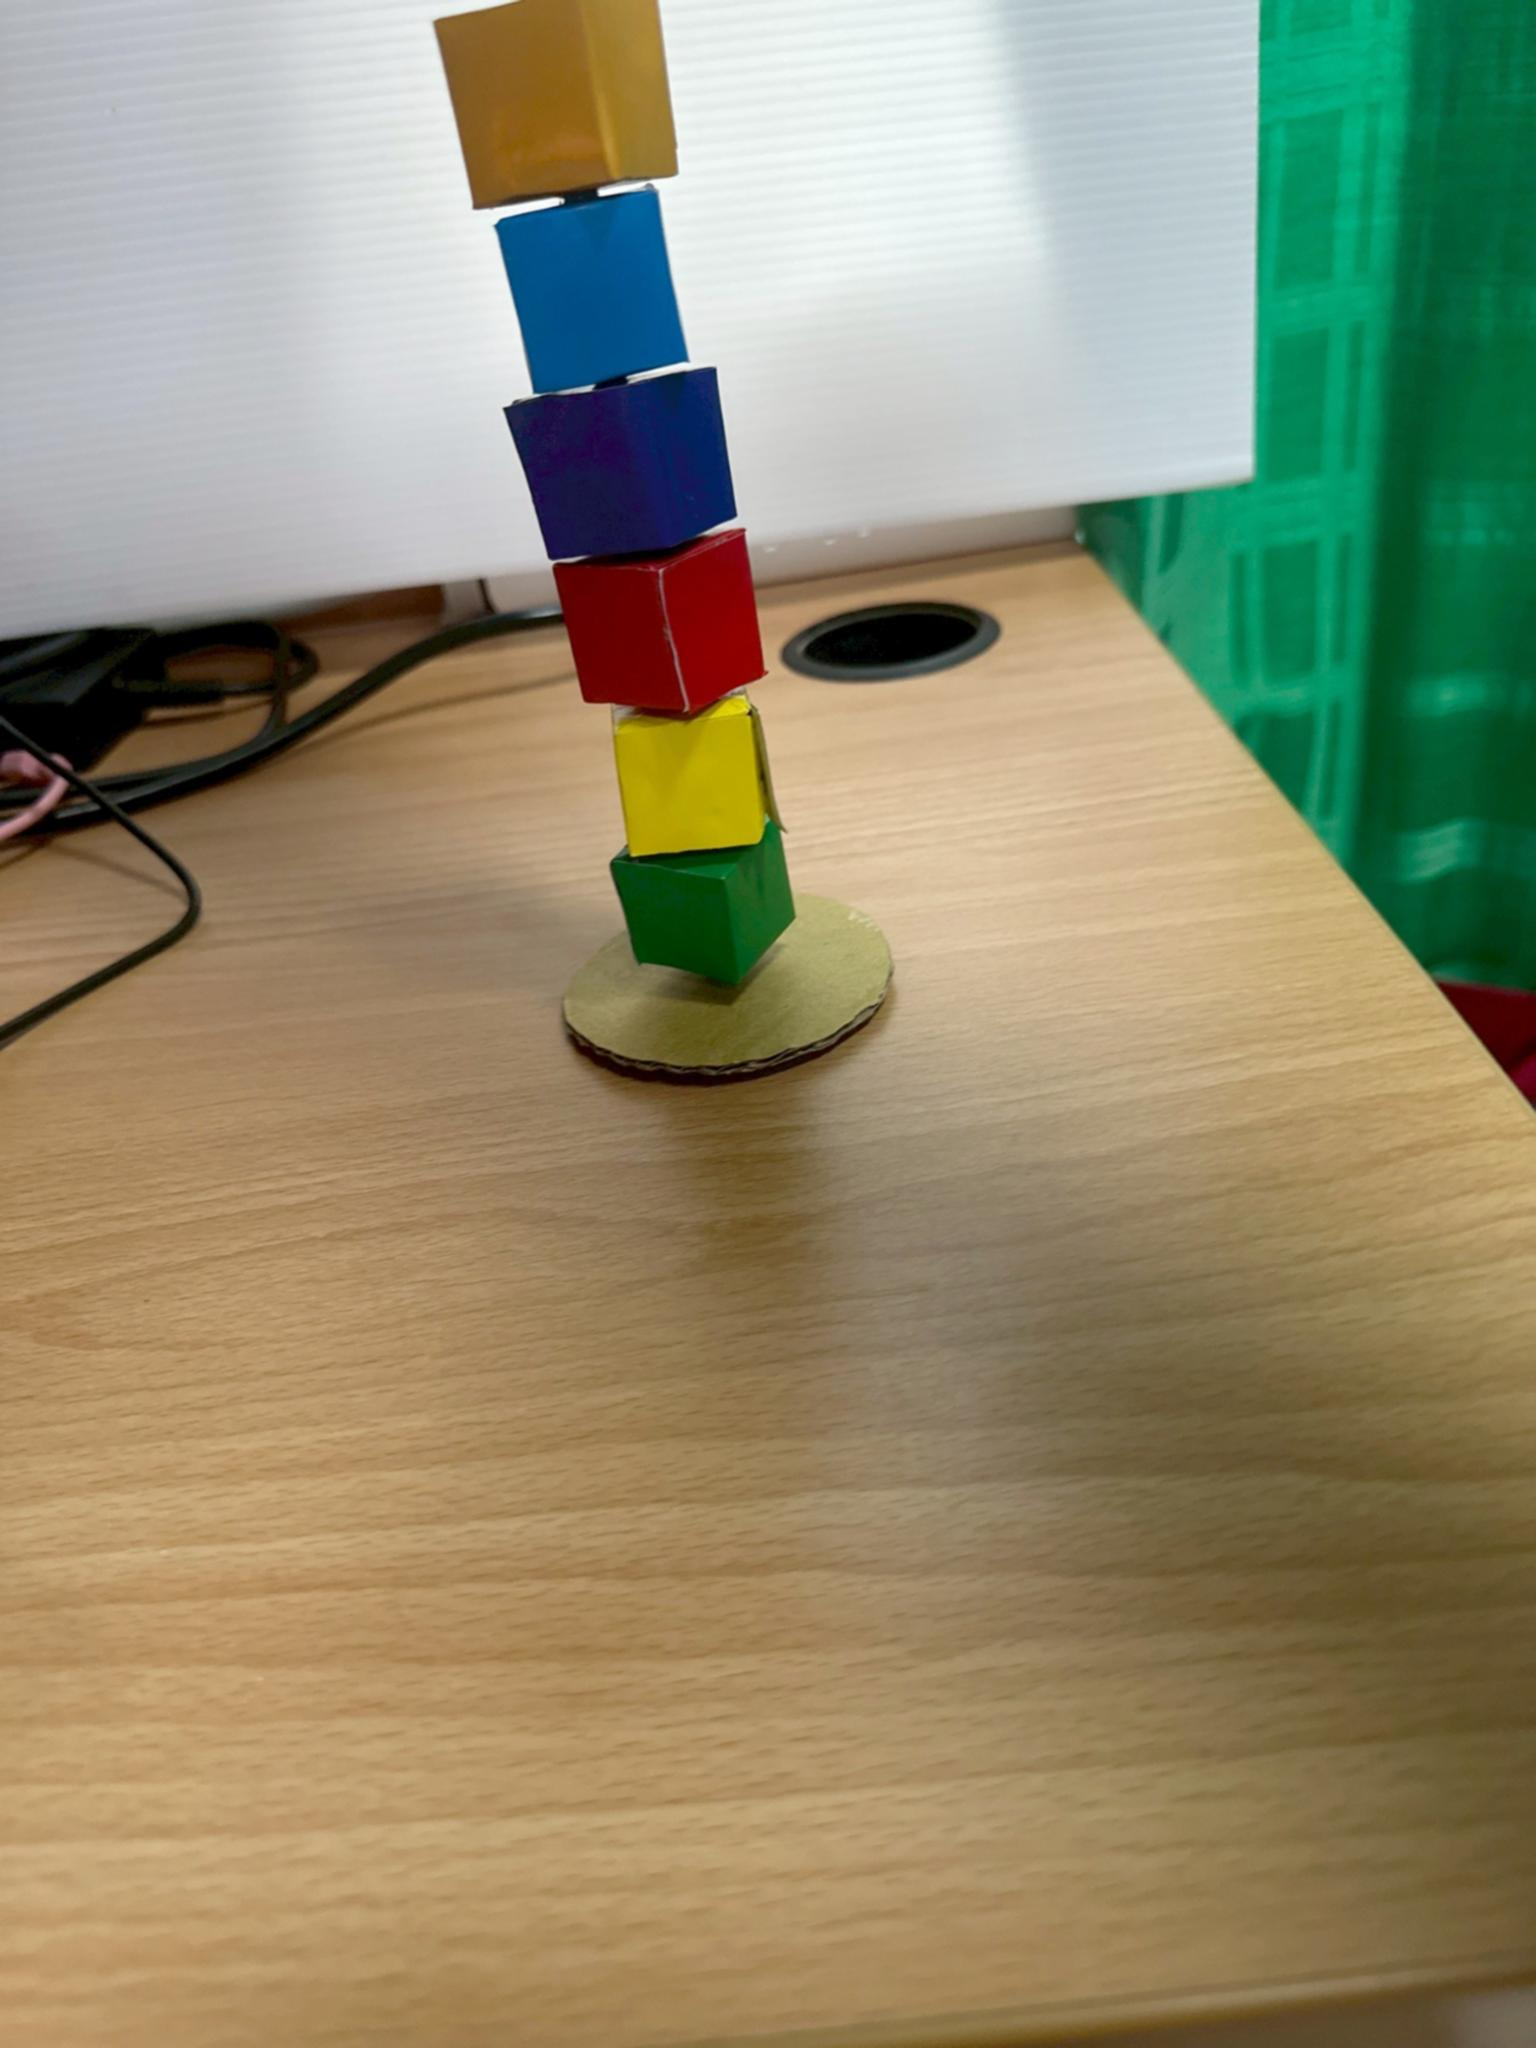base: (565, 895, 892, 1079)
